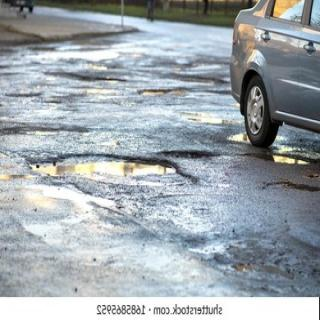pothole: (34, 156, 196, 182)
